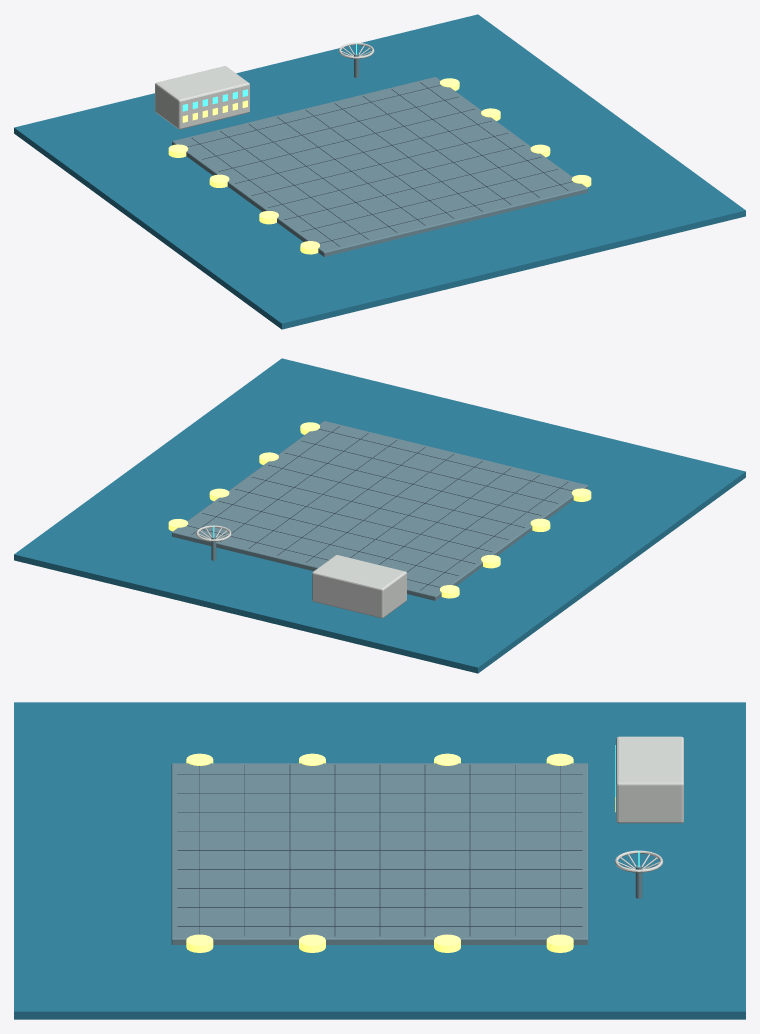
File: journey_platform.glb
3 views of the same model, one above another, from view 1: azimuth 30°, elevation 25°; view 2: azimuth 150°, elevation 25°; view 3: azimuth 270°, elevation 25° (orthographic). The views are drawn at different scales.
Visible parts, largest first — view 1: Scenery_Journey Water.001, Scenery_Journey Steel.003, Scenery_Journey Ivory.003, Scenery_Journey Graphite.002, Scenery_Journey Amber lamps.003; view 2: Scenery_Journey Water.001, Scenery_Journey Steel.003, Scenery_Journey Ivory.003, Scenery_Journey Graphite.002, Scenery_Journey Amber lamps.003; view 3: Scenery_Journey Water.001, Scenery_Journey Steel.003, Scenery_Journey Ivory.003, Scenery_Journey Graphite.002, Scenery_Journey Amber lamps.003.
Part boxes in pixels (box(x1,y1,x2,y2)): Scenery_Journey Water.001: box(14, 14, 745, 329); Scenery_Journey Steel.003: box(172, 53, 587, 256); Scenery_Journey Ivory.003: box(155, 42, 374, 129); Scenery_Journey Graphite.002: box(187, 82, 572, 246); Scenery_Journey Amber lamps.003: box(168, 78, 591, 254); Scenery_Journey Water.001: box(14, 358, 745, 673); Scenery_Journey Steel.003: box(172, 421, 587, 600); Scenery_Journey Ivory.003: box(196, 525, 406, 618); Scenery_Journey Graphite.002: box(187, 426, 572, 590); Scenery_Journey Amber lamps.003: box(168, 422, 591, 598); Scenery_Journey Water.001: box(14, 702, 745, 1019); Scenery_Journey Steel.003: box(171, 763, 642, 944); Scenery_Journey Ivory.003: box(615, 736, 683, 872); Scenery_Journey Graphite.002: box(177, 765, 582, 935); Scenery_Journey Amber lamps.003: box(186, 753, 615, 952).
Size of the model in its own units: 65 by 6 by 65.
